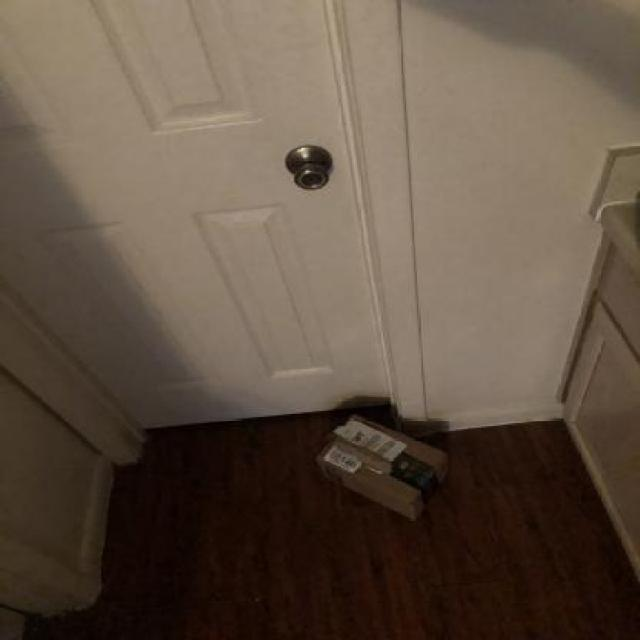cardboxes: (312, 410, 452, 525)
